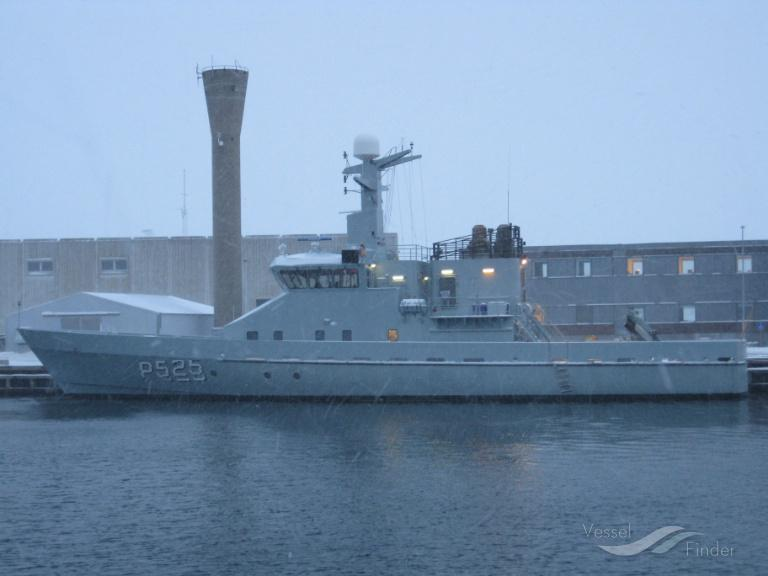OCR: (123, 360, 209, 384)
